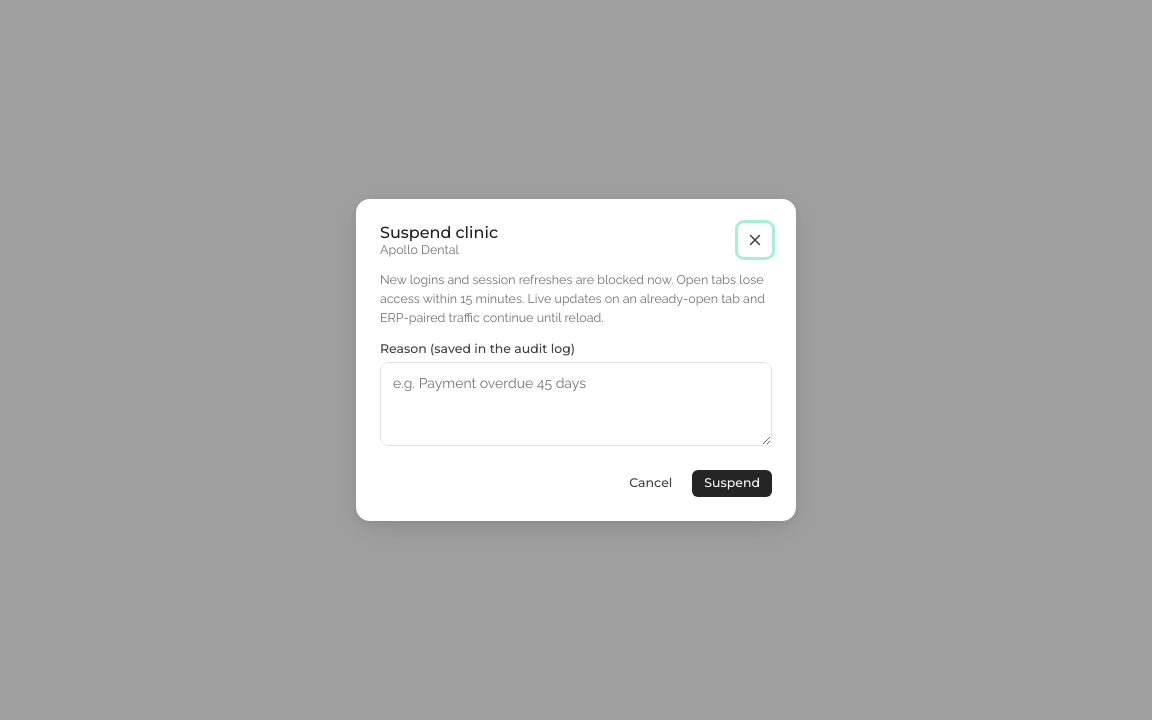
Scenario: ControlModal › on failure says nothing changed and keeps the modal open (D3)
Type "Payment overdue 45 days" into the text box labelled "Reason (saved in the audit log)" at [576, 404], box [380,362,772,446]
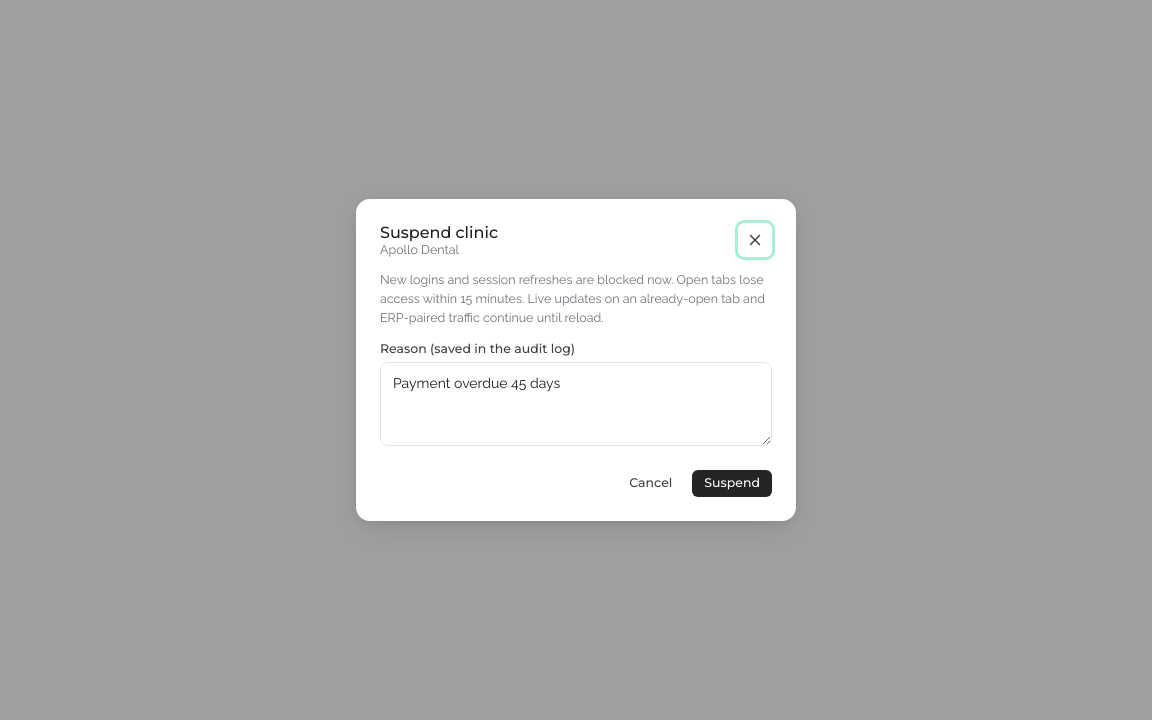
Click the button "Suspend" at [732, 484], box [692,470,772,497]
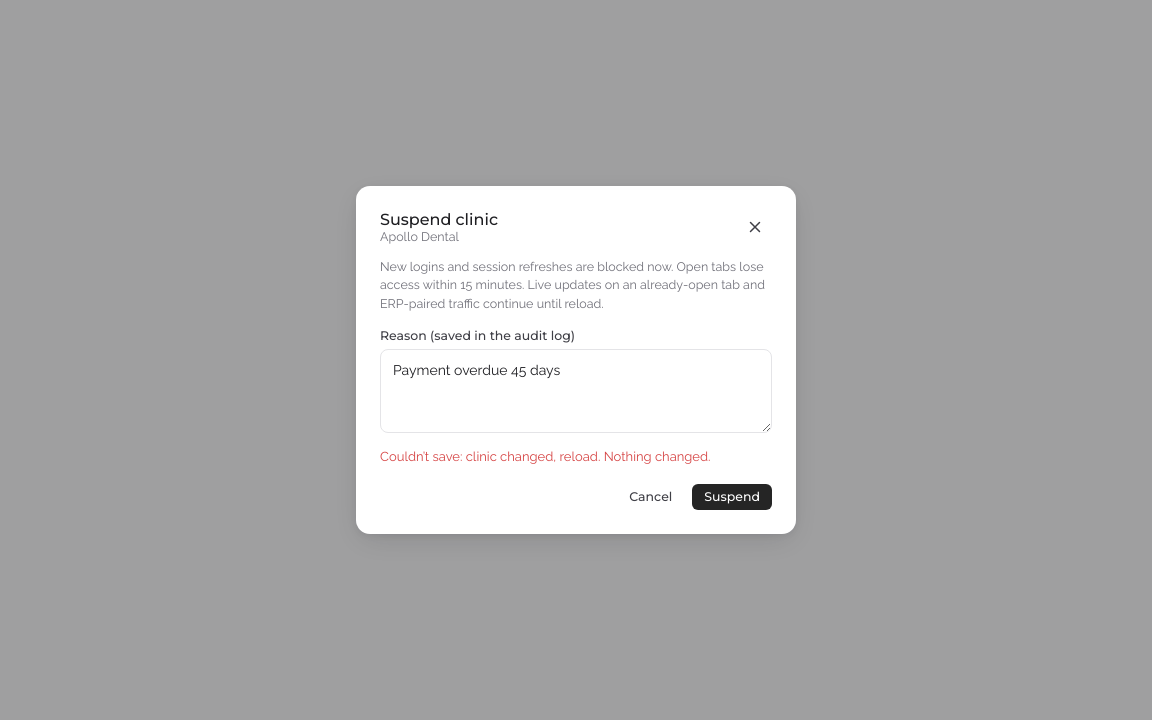
Check: the button "Suspend" is enabled, box [692,484,772,510]
Check: the message reads "Couldn’t save: clinic changed, reload. Nothing changed.", box [380,449,710,464]
